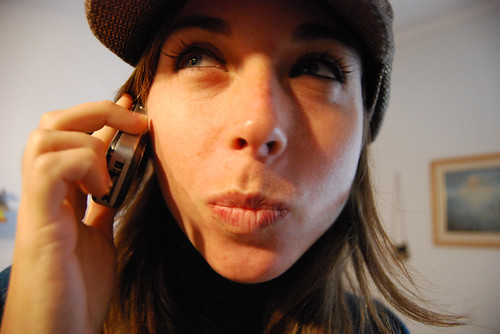phone: (79, 95, 151, 205)
talk: (10, 13, 369, 318)
